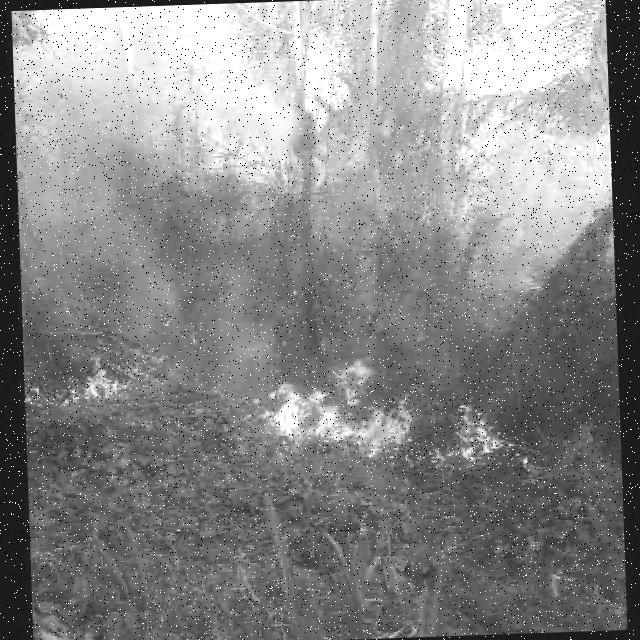Fire: (254, 347, 540, 483), (47, 349, 137, 406)
Smoke: (19, 132, 203, 356), (350, 200, 566, 377), (198, 197, 305, 410)
